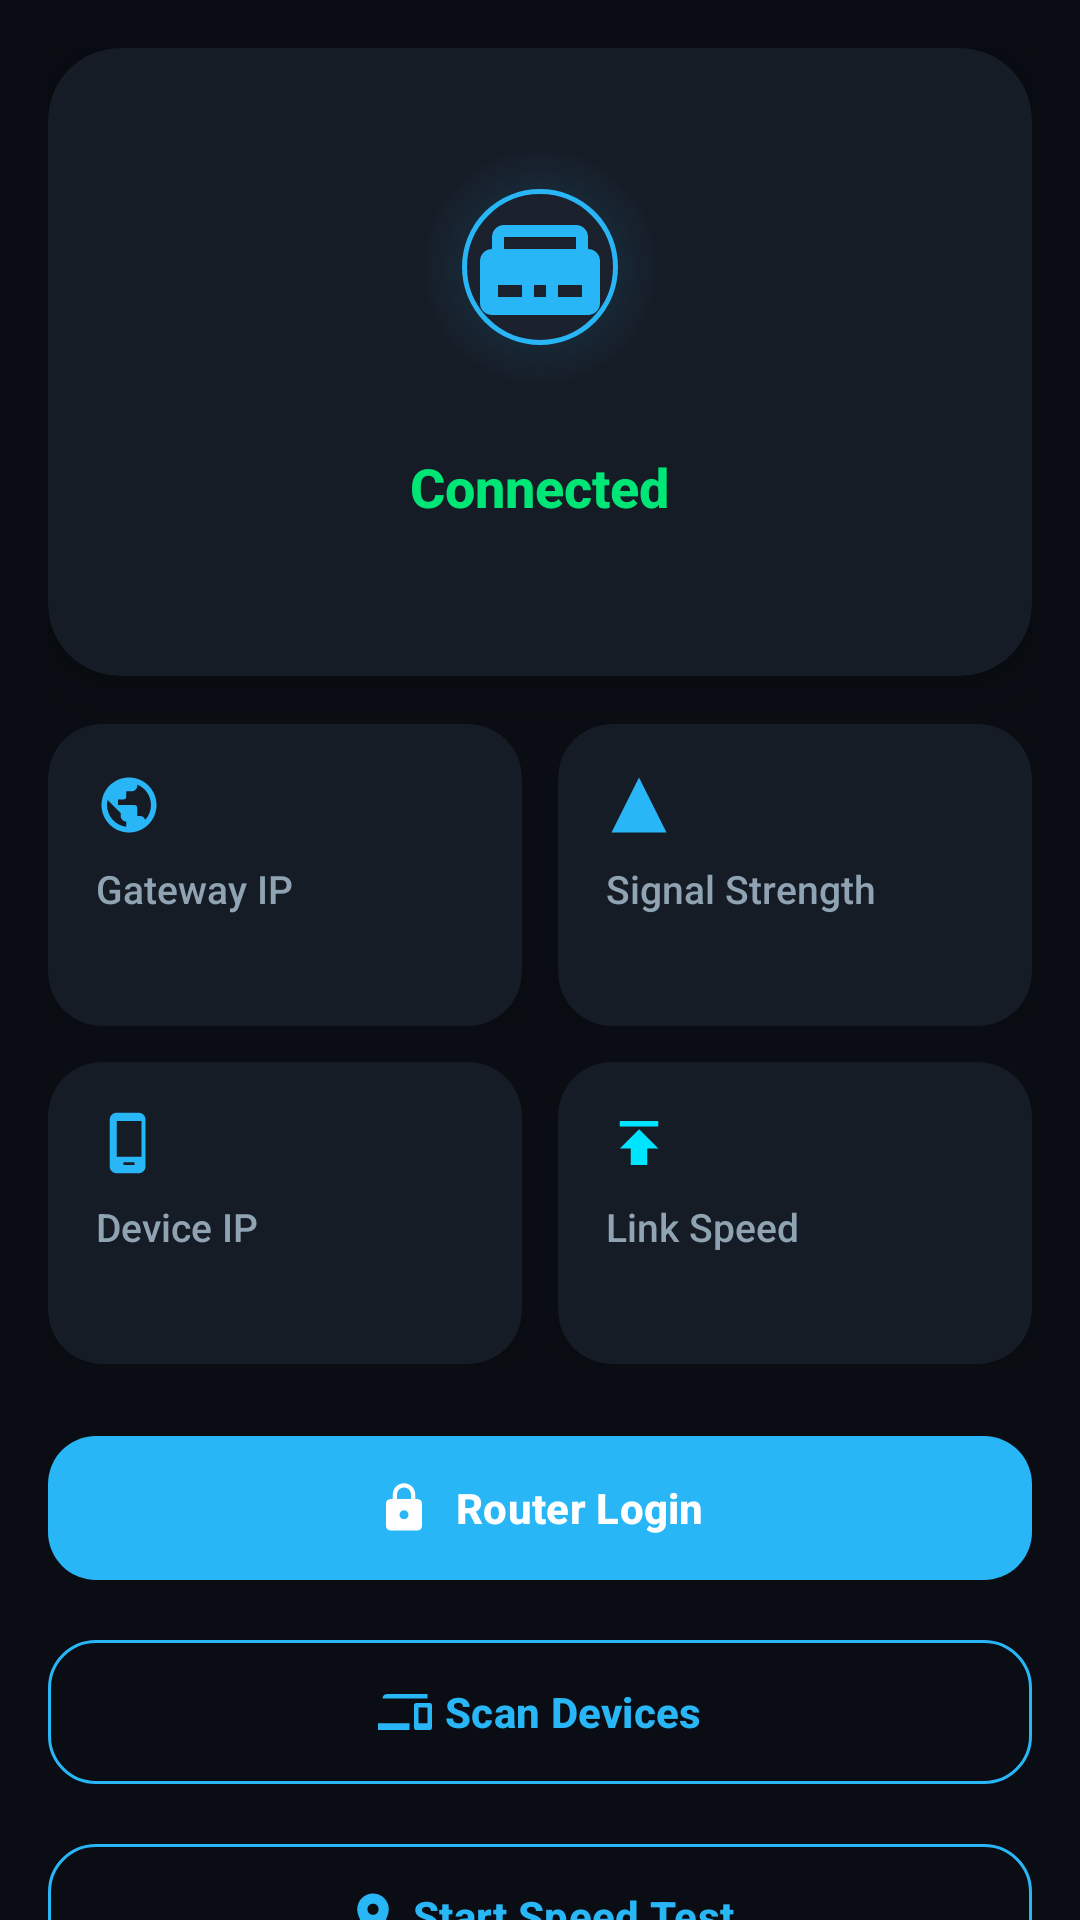

Locate icon controls on the screen. Image size 1080px×1920px, boxes as {"x1": x1, "y1": y1, "x2": x2, "y2": y2}.
globe: {"x1": 101, "y1": 777, "x2": 157, "y2": 833}
phone device: {"x1": 109, "y1": 1112, "x2": 146, "y2": 1174}
router: {"x1": 468, "y1": 195, "x2": 612, "y2": 339}
upload: {"x1": 619, "y1": 1121, "x2": 659, "y2": 1165}
